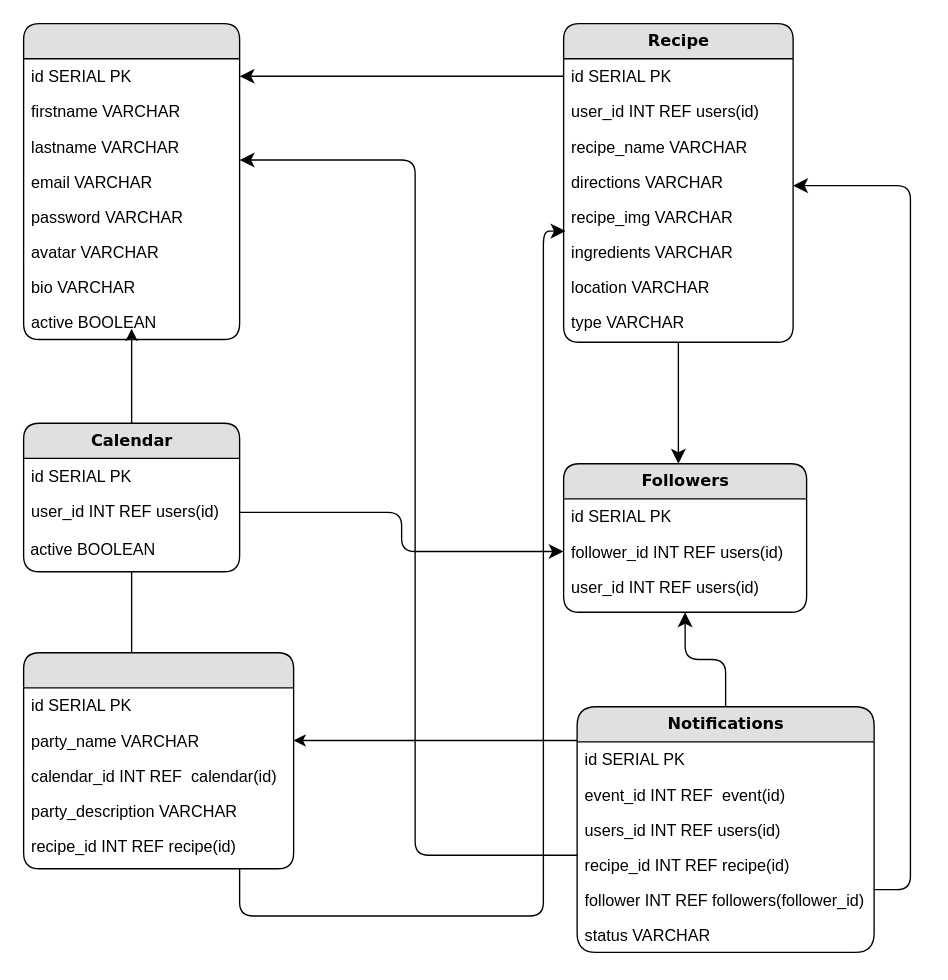
This 948x980 diagram has some shape labels left out. Each missing label, with the box of its shape:
Event: (22, 651, 294, 869)
Users: (22, 22, 240, 340)
